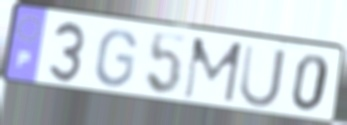0: (288, 52, 330, 114)
3: (46, 20, 88, 85)
5: (145, 32, 188, 99)
G: (93, 28, 139, 89)
M: (181, 35, 246, 106)
U: (237, 42, 288, 111)
